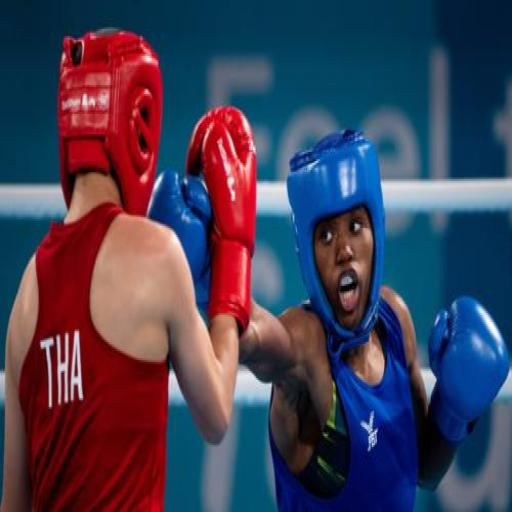boxing: (147, 109, 509, 510), (0, 26, 257, 510)
